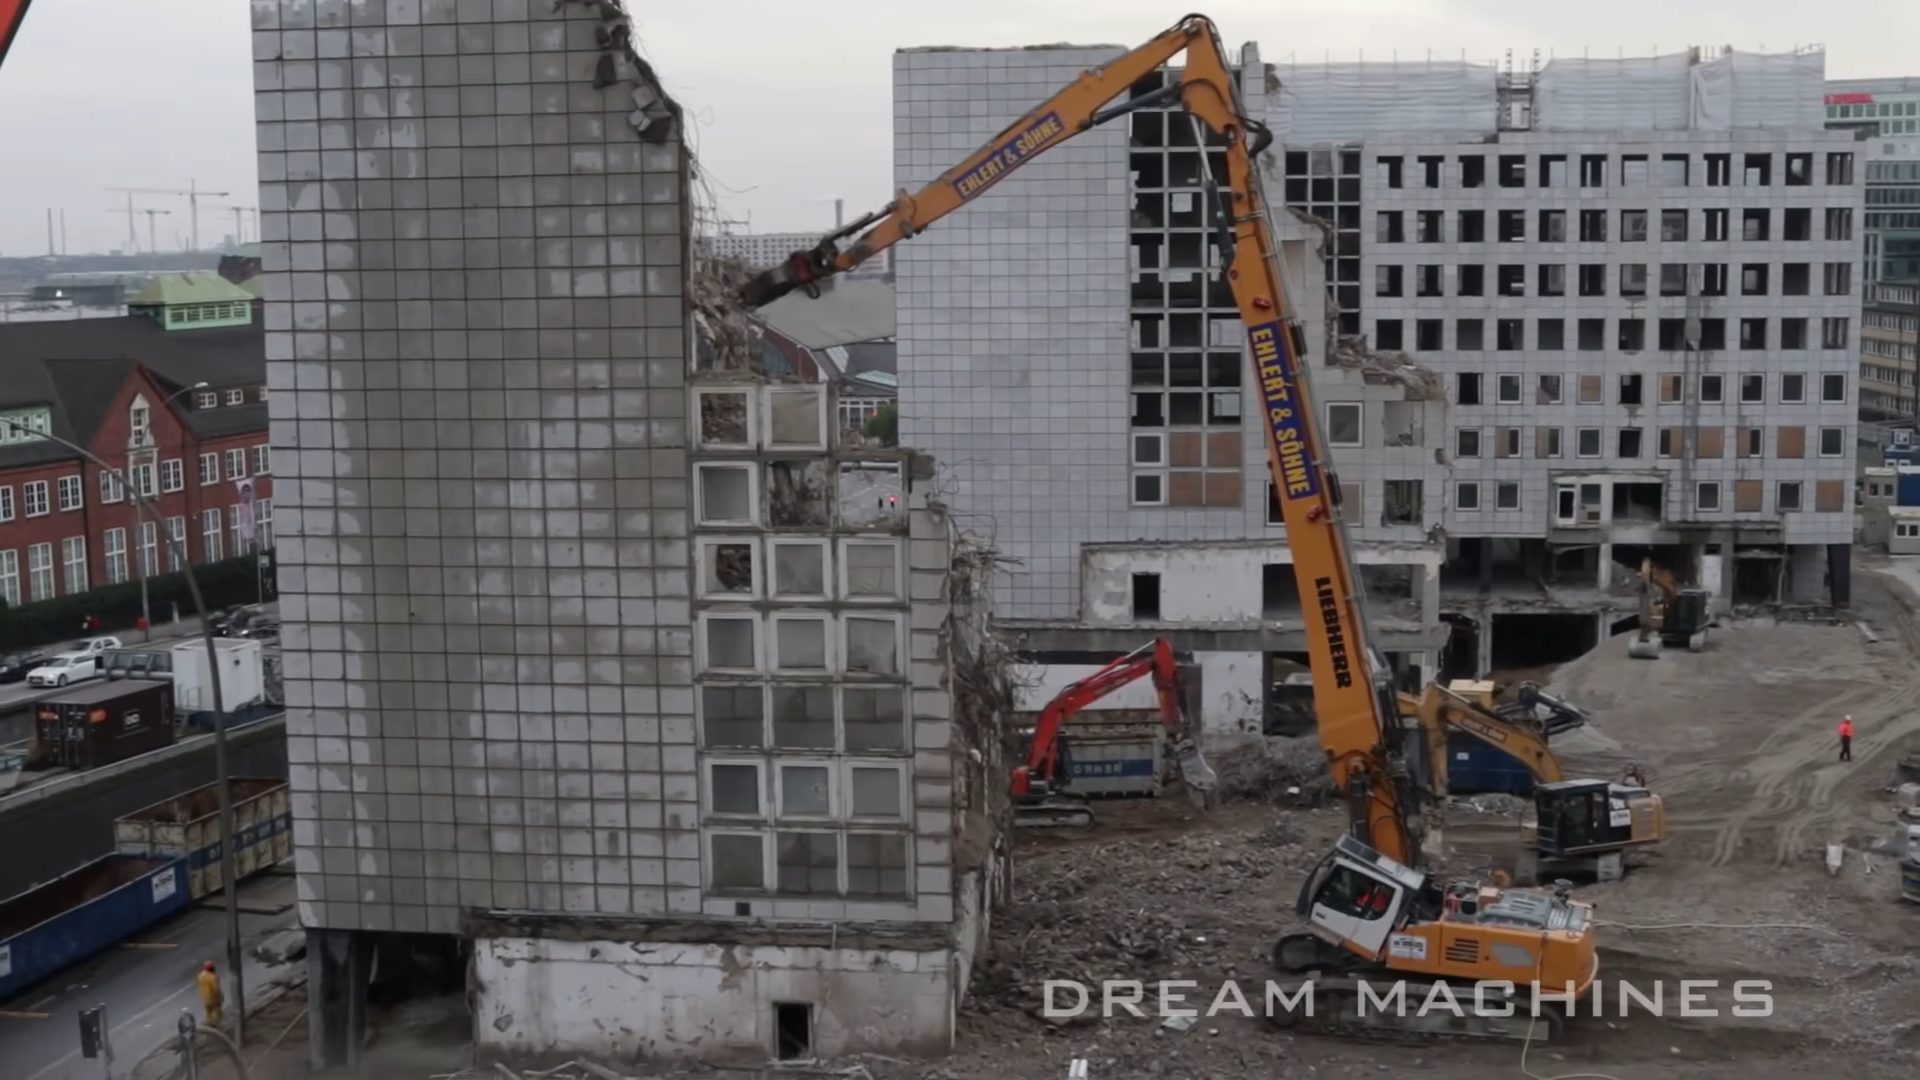excavator: (746, 3, 1620, 1021), (1396, 671, 1701, 862), (955, 631, 1251, 803)
